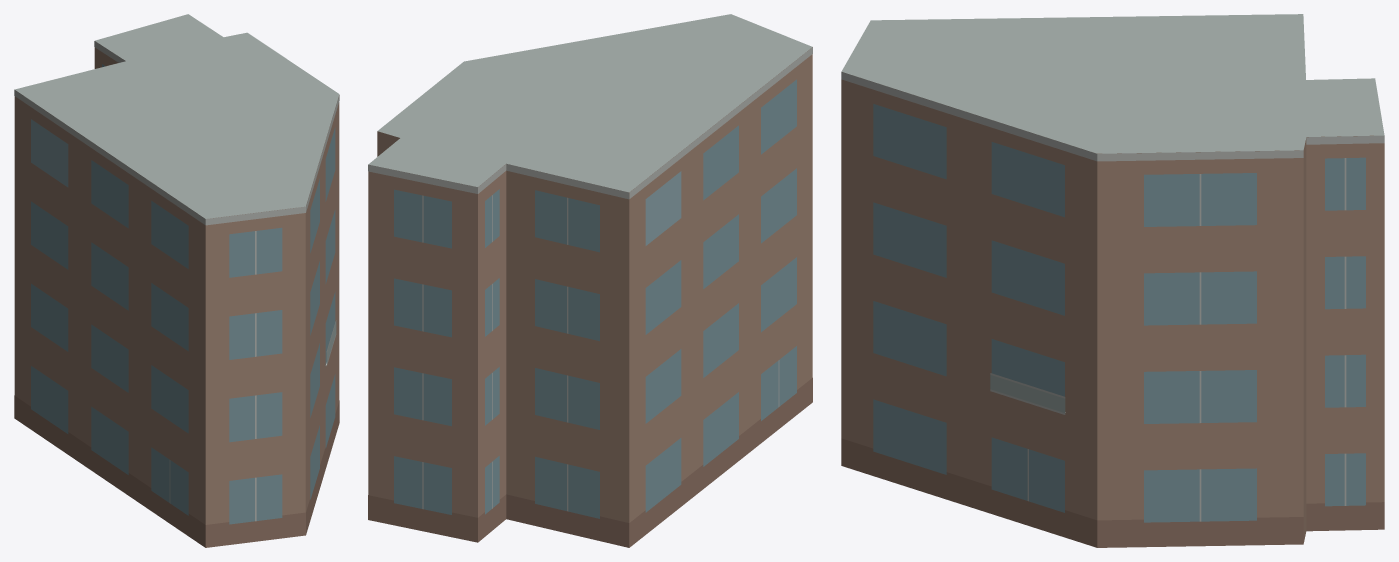
File: survey-upis-32961628.glb
3 renders of one model, left to right at view 1: azimuth 30°, elevation 25°; view 2: azimuth 150°, elevation 25°; view 3: azimuth 270°, elevation 25°, orthographic. The views are drawn at different scales.
Parts seen in each view (by area): view 1: survey-upis-32961628.tmp; view 2: survey-upis-32961628.tmp; view 3: survey-upis-32961628.tmp.
Boxes of the visible parts, x1,y1,x2,y2 form: survey-upis-32961628.tmp: [14, 14, 339, 547]; survey-upis-32961628.tmp: [368, 14, 812, 547]; survey-upis-32961628.tmp: [841, 14, 1384, 547].
Bounding box in the file's own units: 9.52 × 12.5 × 15.63.
